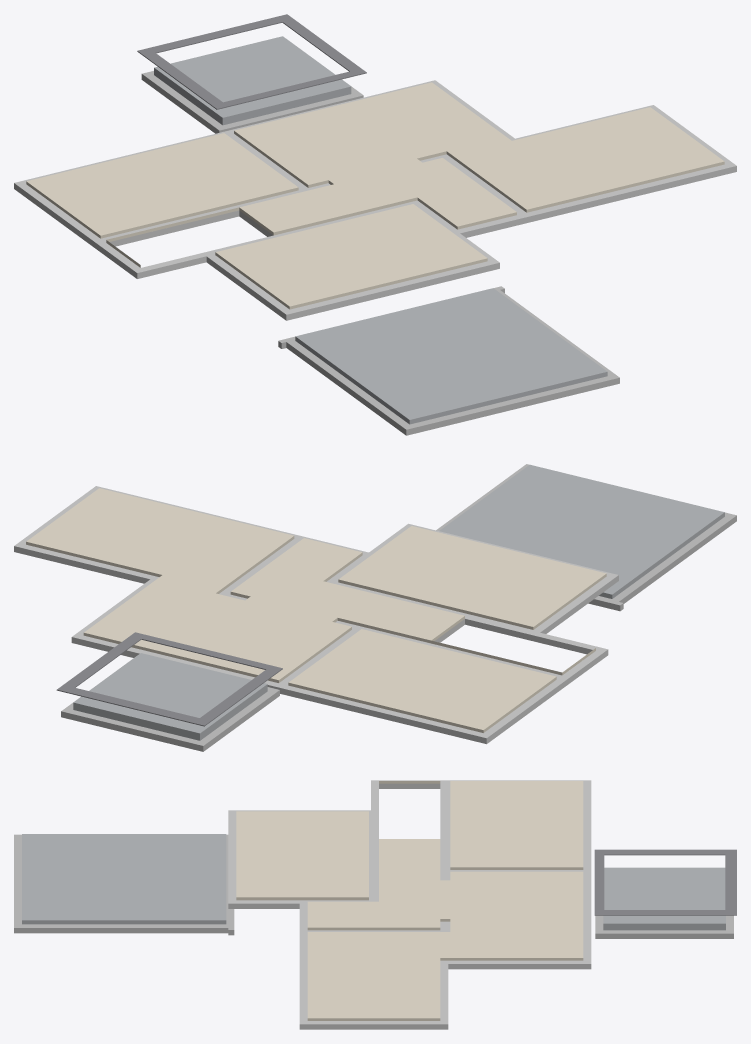
The model's file is stage-3.glb.
3 renders of one model, top to bottom at view 1: azimuth 30°, elevation 25°; view 2: azimuth 150°, elevation 25°; view 3: azimuth 270°, elevation 25°, orthographic. The views are drawn at different scales.
Parts seen in each view (by area): view 1: Geom3D (×5); view 2: Geom3D (×5); view 3: Geom3D (×5).
Part boxes in pixels (box(x1,y1,x2,y2)): Geom3D (×5): box(14, 14, 736, 435); Geom3D (×5): box(14, 464, 736, 751); Geom3D (×5): box(14, 780, 736, 1029).
Size of the model in its own units: 19.4 by 1.85 by 24.3.
